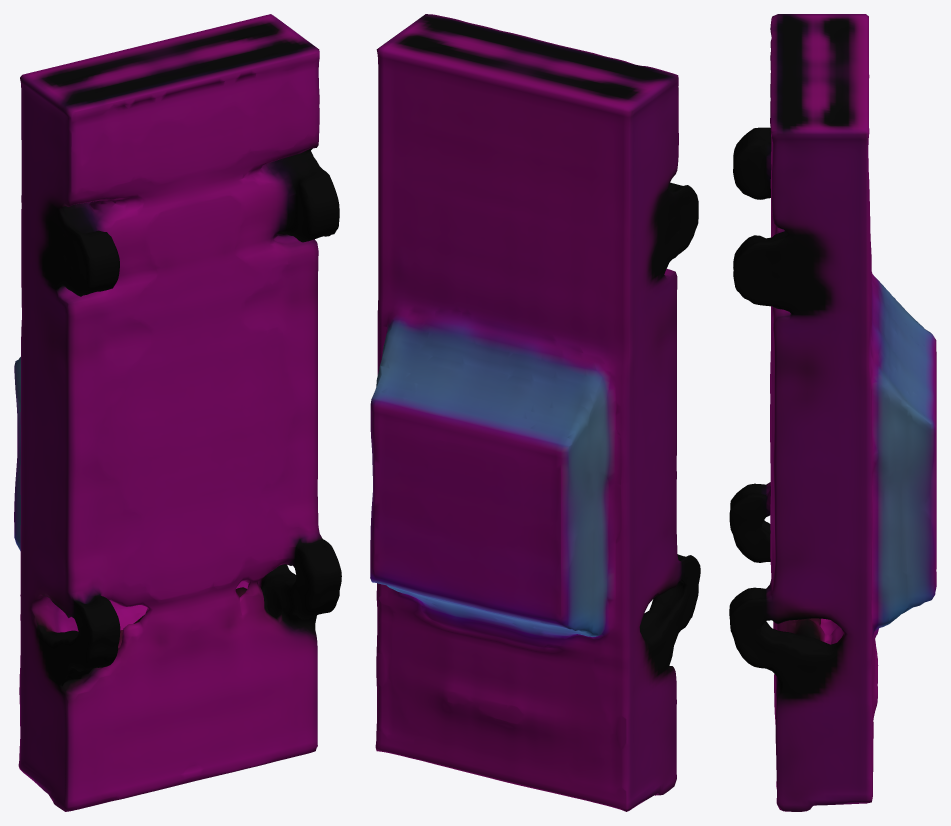
3 views of the same model, side by side, from view 1: azimuth 30°, elevation 25°; view 2: azimuth 150°, elevation 25°; view 3: azimuth 270°, elevation 25° (orthographic). The views are drawn at different scales.
Visible parts, largest first — view 1: plyFile; view 2: plyFile; view 3: plyFile.
Part boxes in pixels (bbox=[...]): plyFile: bbox=[14, 14, 341, 811]; plyFile: bbox=[370, 14, 700, 811]; plyFile: bbox=[729, 14, 936, 811].
Bounding box in the file's own units: 74.64 × 198 × 54.73.
